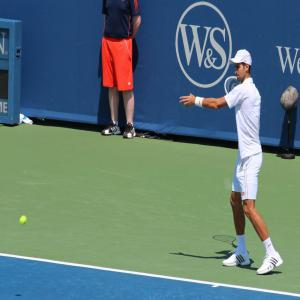TennisBall: (20, 216, 28, 225)
